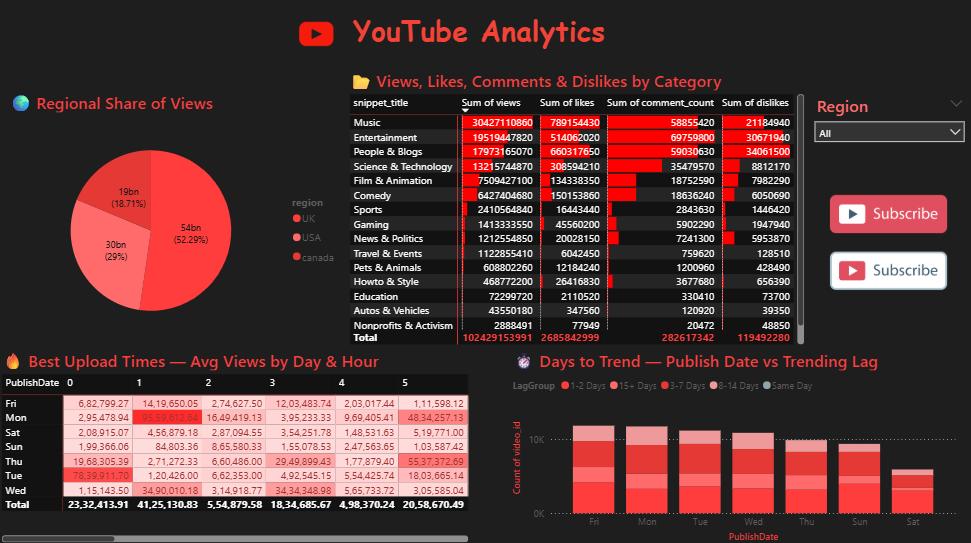

Layout of this report page (visuals, bound fields, positions):
{"tool":"powerbi","page":{"name":"Audience/ Region","canvas":[1280,720],"ordinal":1},"visuals":[{"type":"pieChart","title":"🌍 Regional Share of Views","fields":{"Category":["final_analytics.region"],"Y":["Sum(final_analytics.views)"]},"box":[11,122.5,445.9,338.6],"z":0},{"type":"slicer","fields":{"Values":["final_analytics.region"]},"box":[1062.5,122.5,217.5,85.3],"z":1000},{"type":"pivotTable","title":"🔥 Best Upload Times — Avg Views by Day & Hour","fields":{"Rows":["final_analytics.PublishDate"],"Columns":["final_analytics.PublishHour"],"Values":["final_analytics.AvgViews"]},"box":[0,461.1,623.5,258.8],"z":2000},{"type":"columnChart","title":"⏱️ Days to Trend — Publish Date vs Trending Lag","fields":{"Category":["final_analytics.PublishDate"],"Y":["CountNonNull(final_analytics.video_id)"],"Series":["final_analytics.LagGroup"]},"box":[671.7,461.1,591.8,258.8],"z":3000},{"type":"pivotTable","title":"📂 Views, Likes, Comments & Dislikes by Category","fields":{"Rows":["final_analytics.snippet_title"],"Values":["Sum(final_analytics.views)","Sum(final_analytics.likes)","Sum(final_analytics.comment_count)","Sum(final_analytics.dislikes)"]},"box":[456.9,93.6,607,367.5],"z":4000},{"type":"textbox","box":[19.3,11,1241.5,71.6],"z":5000},{"type":"image","box":[379.9,19.3,77.1,55.1],"z":5001},{"type":"image","box":[1076.3,239.5,188.6,163.8],"z":5002}]}

Visuals, with their boxes in screenshot pixels (x1, y1, x2, y2), scaled from the page's 1280x720 canvas onto the 971x543 screenshot:
"🌍 Regional Share of Views" pieChart: locate(8, 92, 347, 348)
slicer - final_analytics.region: locate(806, 92, 970, 157)
"🔥 Best Upload Times — Avg Views by Day & Hour" pivotTable: locate(0, 348, 473, 542)
"⏱️ Days to Trend — Publish Date vs Trending Lag" columnChart: locate(510, 348, 958, 542)
"📂 Views, Likes, Comments & Dislikes by Category" pivotTable: locate(347, 71, 807, 348)
textbox: locate(15, 8, 956, 62)
image: locate(288, 15, 347, 56)
image: locate(816, 181, 960, 304)
